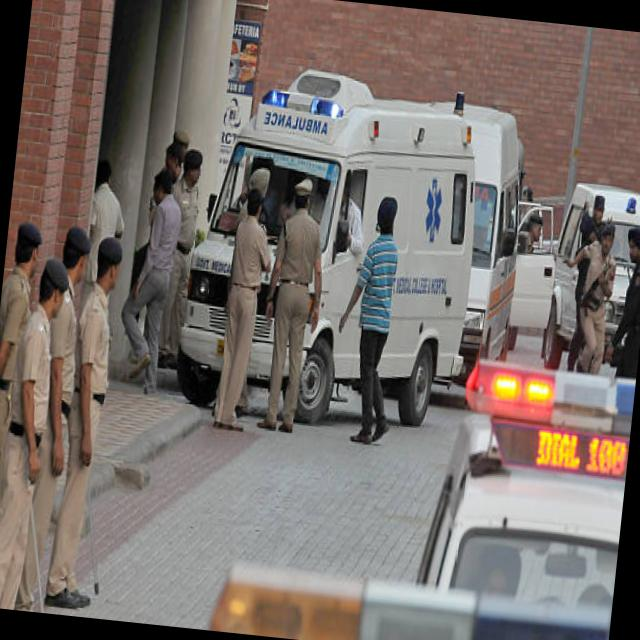ambulance: (459, 338, 638, 434), (251, 78, 343, 158), (238, 124, 340, 185), (393, 264, 455, 316), (414, 170, 451, 254), (478, 247, 518, 314), (468, 174, 498, 209), (447, 89, 468, 118)
